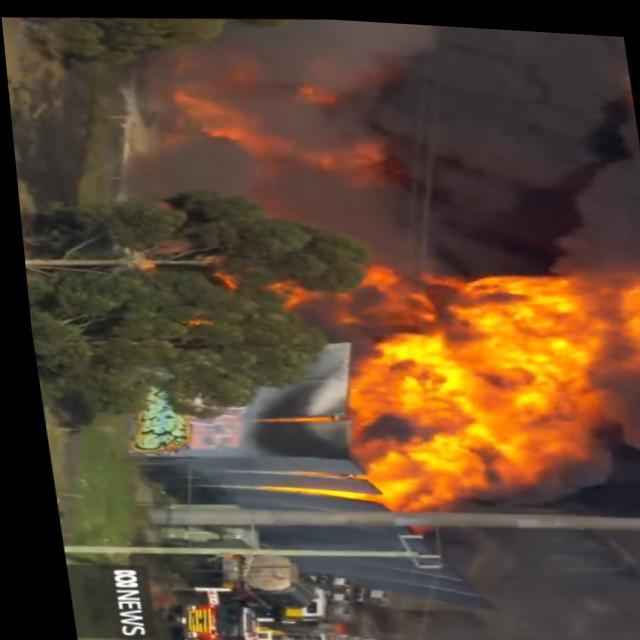Fire: (252, 242, 640, 549), (140, 42, 403, 198)
